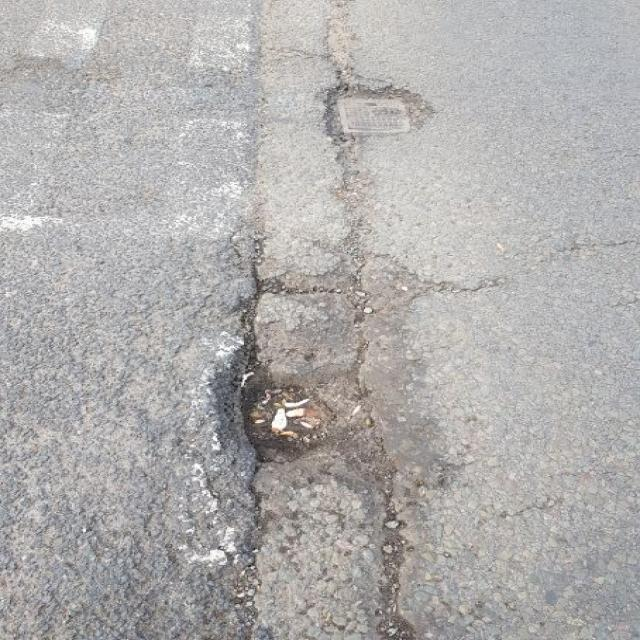Pothole: (207, 252, 471, 506)
